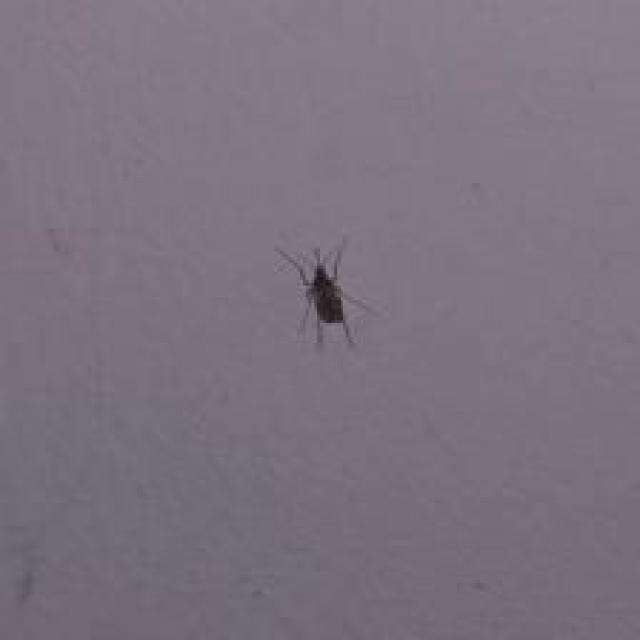Culex: (273, 237, 376, 349)
